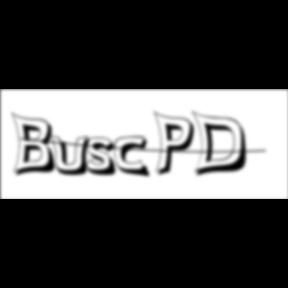B: (12, 111, 62, 179)
D: (192, 110, 254, 180)
P: (154, 110, 200, 180)
c: (115, 136, 155, 180)
s: (84, 137, 124, 179)
u: (49, 132, 97, 178)
